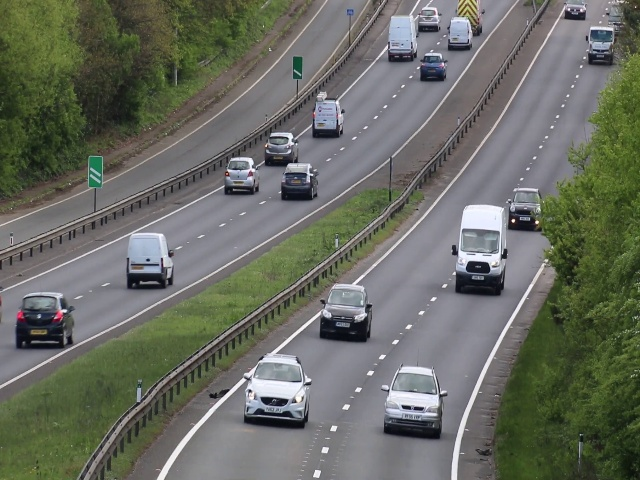car: (243, 351, 311, 431), (381, 355, 442, 440), (453, 201, 507, 297), (16, 290, 75, 352), (318, 280, 372, 345), (123, 228, 176, 290), (383, 14, 419, 62), (279, 159, 319, 201), (223, 155, 261, 198), (509, 186, 541, 234), (261, 130, 302, 166), (312, 95, 345, 138), (586, 23, 615, 64), (446, 16, 473, 51), (417, 51, 448, 81), (416, 6, 441, 30), (564, 1, 586, 21)
